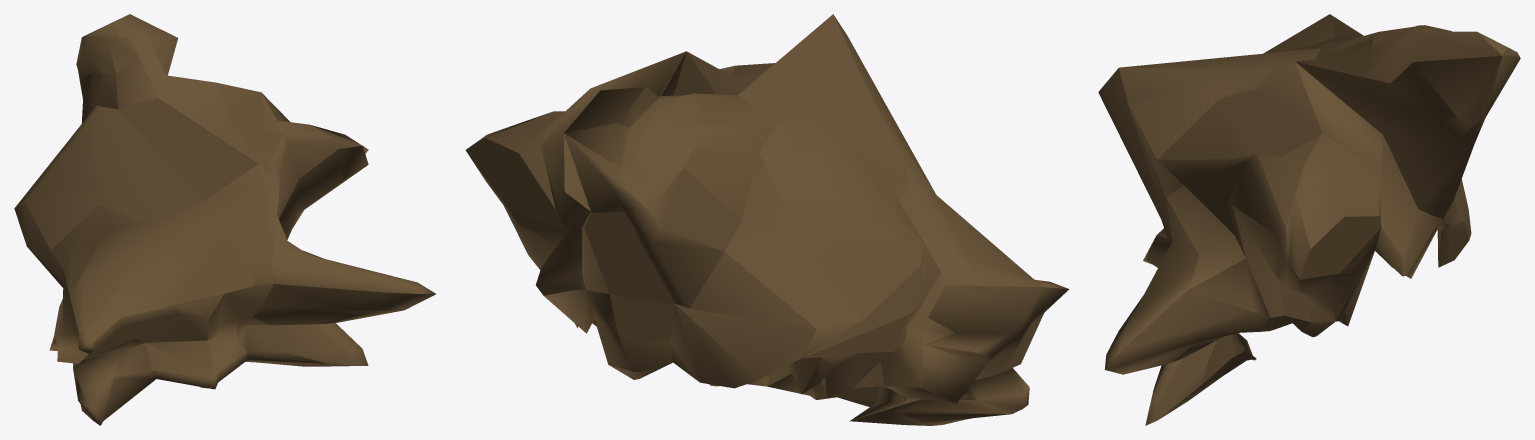
File: hair_spikes_3.fbx
The picture shows the model from 3 angles, left to right: view 1: azimuth 30°, elevation 25°; view 2: azimuth 150°, elevation 25°; view 3: azimuth 270°, elevation 25°; orthographic projection. The views are drawn at different scales.
Parts seen in each view (by area): view 1: polySurface57, polySurface60, polySurface36, polySurface55, polySurface40, polySurface52, polySurface62, polySurface46, polySurface48, polySurface50; view 2: polySurface57, polySurface55, polySurface52, polySurface40, polySurface50, polySurface62, polySurface51, polySurface45, polySurface42, polySurface41, polySurface60, polySurface44 (+1 smaller); view 3: polySurface55, polySurface62, polySurface40, polySurface36, polySurface46, polySurface60, polySurface51, polySurface57, polySurface50.
Part boxes in pixels (x1,y1,x2,y2): polySurface57: (14,98,258,291); polySurface60: (120,163,278,342); polySurface36: (253,215,435,325); polySurface55: (76,14,215,123); polySurface40: (261,92,368,239); polySurface52: (49,261,144,367); polySurface62: (158,82,286,201); polySurface46: (245,317,368,366); polySurface48: (145,325,247,389); polySurface50: (73,343,155,425); polySurface57: (676,14,980,380); polySurface55: (541,51,776,340); polySurface52: (853,196,1069,403); polySurface40: (465,89,596,327); polySurface50: (837,368,1029,425); polySurface62: (541,51,774,231); polySurface51: (536,237,641,379); polySurface45: (788,267,919,394); polySurface42: (670,304,757,388); polySurface41: (821,351,893,397); polySurface60: (834,15,934,192); polySurface44: (640,340,672,378); polySurface55: (1295,25,1520,257); polySurface62: (1119,48,1382,255); polySurface40: (1223,133,1400,337); polySurface36: (1104,185,1270,374); polySurface46: (1145,333,1256,425); polySurface60: (1098,68,1187,246); polySurface51: (1375,200,1471,278); polySurface57: (1263,14,1363,53); polySurface50: (1143,228,1169,267).
Bounding box in the file's own units: 3.99 × 2.94 × 3.39.
